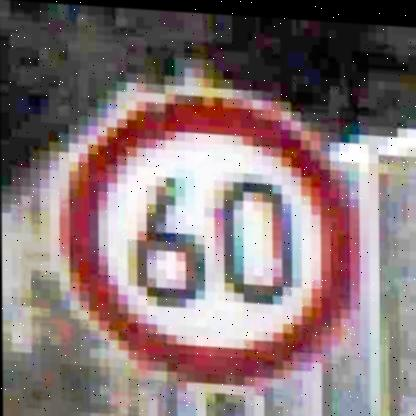Speed Limit -60-: (48, 78, 358, 392)
